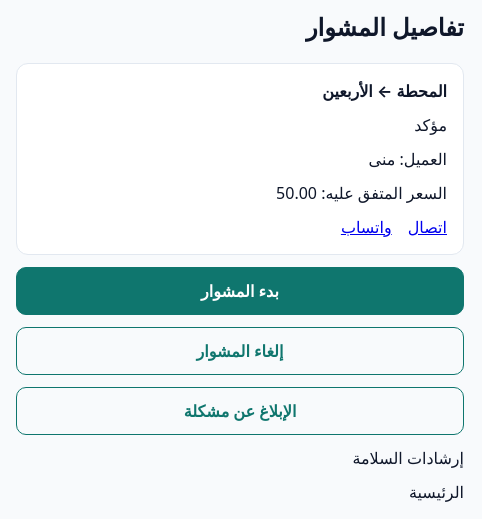
Test: TripDetailView › refetches the real state when an action conflicts
Click the button "إلغاء المشوار".
click(240, 351)  # box [16, 327, 464, 375]
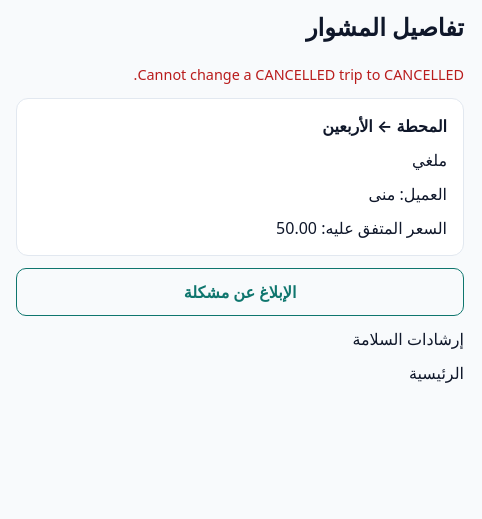
Expected: the text "Cannot change" is shown, [134, 65, 464, 84]
Expected: the text with test id "status" reads "ملغي", [412, 149, 447, 171]
